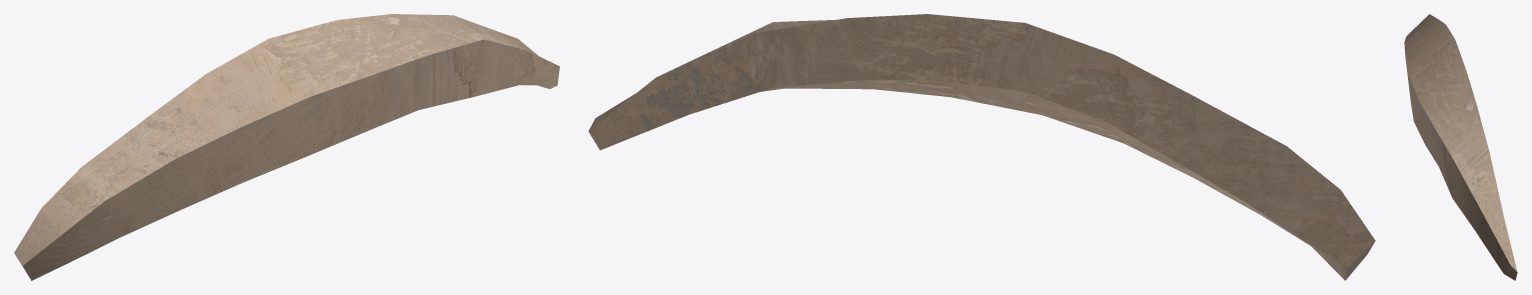
Rendered from eyebrow-R.fbx.
3 renders of one model, left to right at view 1: azimuth 30°, elevation 25°; view 2: azimuth 150°, elevation 25°; view 3: azimuth 270°, elevation 25°, orthographic. The views are drawn at different scales.
Visible parts, largest first — view 1: eyebrow-R; view 2: eyebrow-R; view 3: eyebrow-R.
Part boxes in pixels (box(x1,y1,x2,y2)): eyebrow-R: box(14, 14, 559, 280); eyebrow-R: box(588, 14, 1375, 280); eyebrow-R: box(1404, 14, 1517, 280).
Bounding box in the file's own units: 3.98 × 1.06 × 0.8383.
